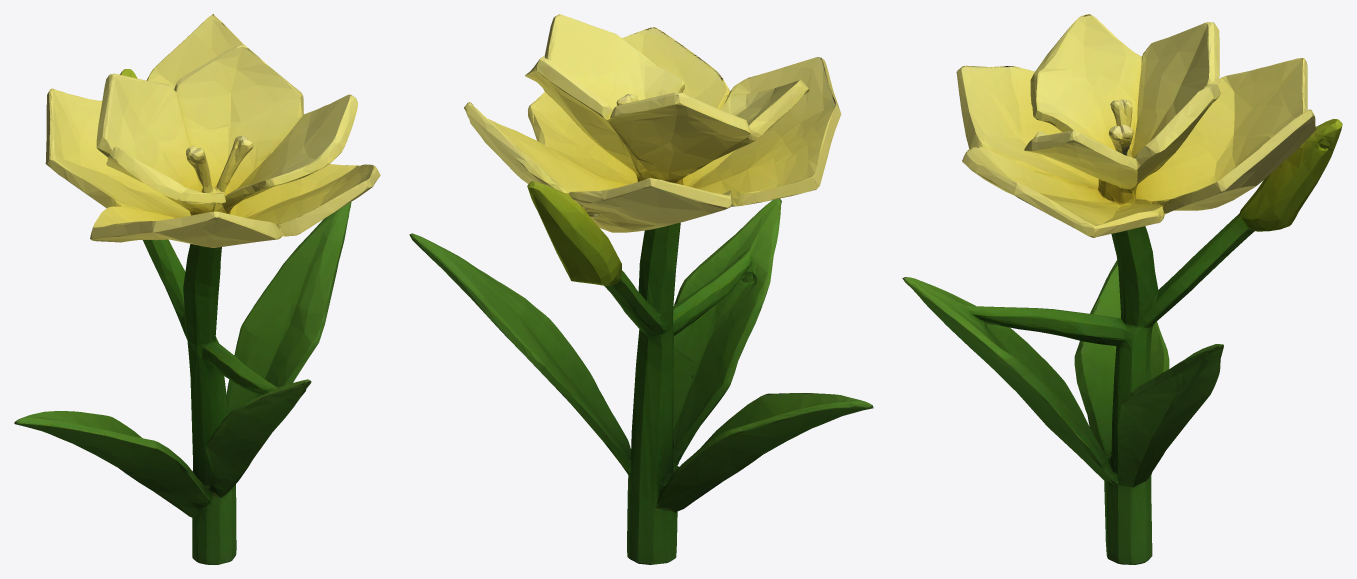
The model's file is evening_primrose.glb.
The picture shows the model from 3 angles, left to right: view 1: azimuth 30°, elevation 25°; view 2: azimuth 150°, elevation 25°; view 3: azimuth 270°, elevation 25°; orthographic projection. The views are drawn at different scales.
Parts seen in each view (by area): view 1: world; view 2: world; view 3: world.
Part boxes in pixels (box(x1,y1,x2,y2)): world: box(14, 14, 380, 564); world: box(409, 14, 873, 564); world: box(902, 14, 1342, 564).
Bounding box in the file's own units: 0.8517 × 1 × 0.7986.
Materials: 1 (1 with a texture image).
